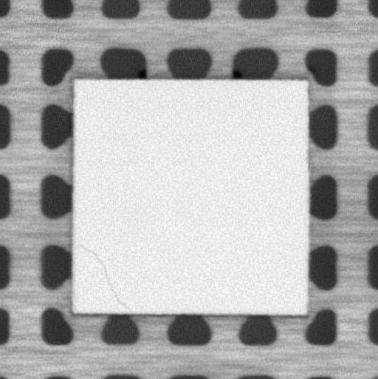DIE_CRACK: (80, 242, 125, 306)
